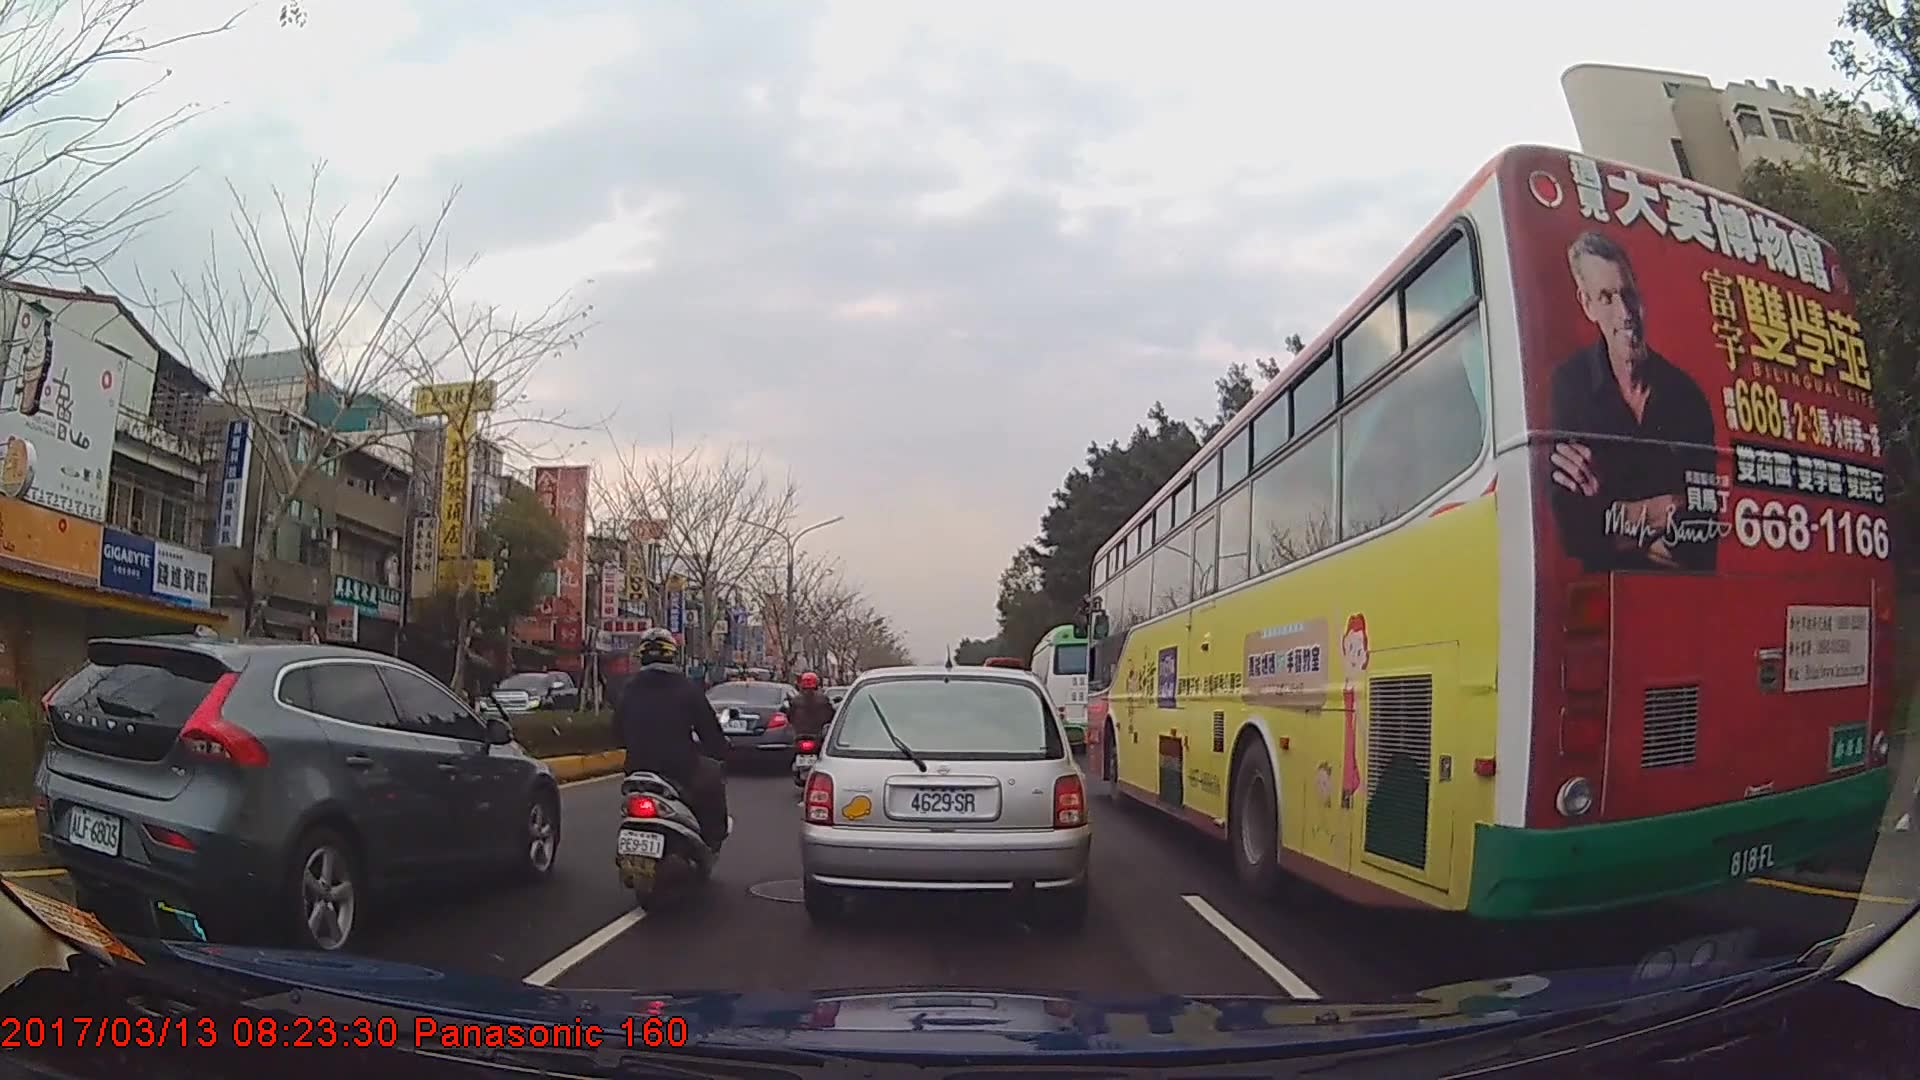rider: (606, 625, 729, 919), (783, 672, 840, 790)
vehicle: (1084, 141, 1901, 930), (32, 634, 560, 958), (802, 664, 1090, 934), (1027, 625, 1118, 749), (693, 679, 811, 773), (476, 668, 596, 732)
